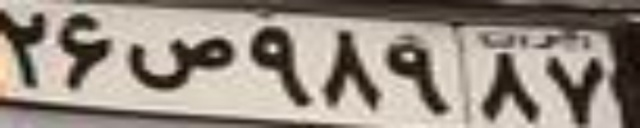2: (0, 6, 44, 87)
6: (54, 11, 115, 89)
7: (544, 54, 606, 125)
8: (472, 51, 537, 123), (322, 29, 381, 108)
9: (384, 33, 450, 113), (249, 25, 308, 105)
saat: (127, 34, 232, 90)
